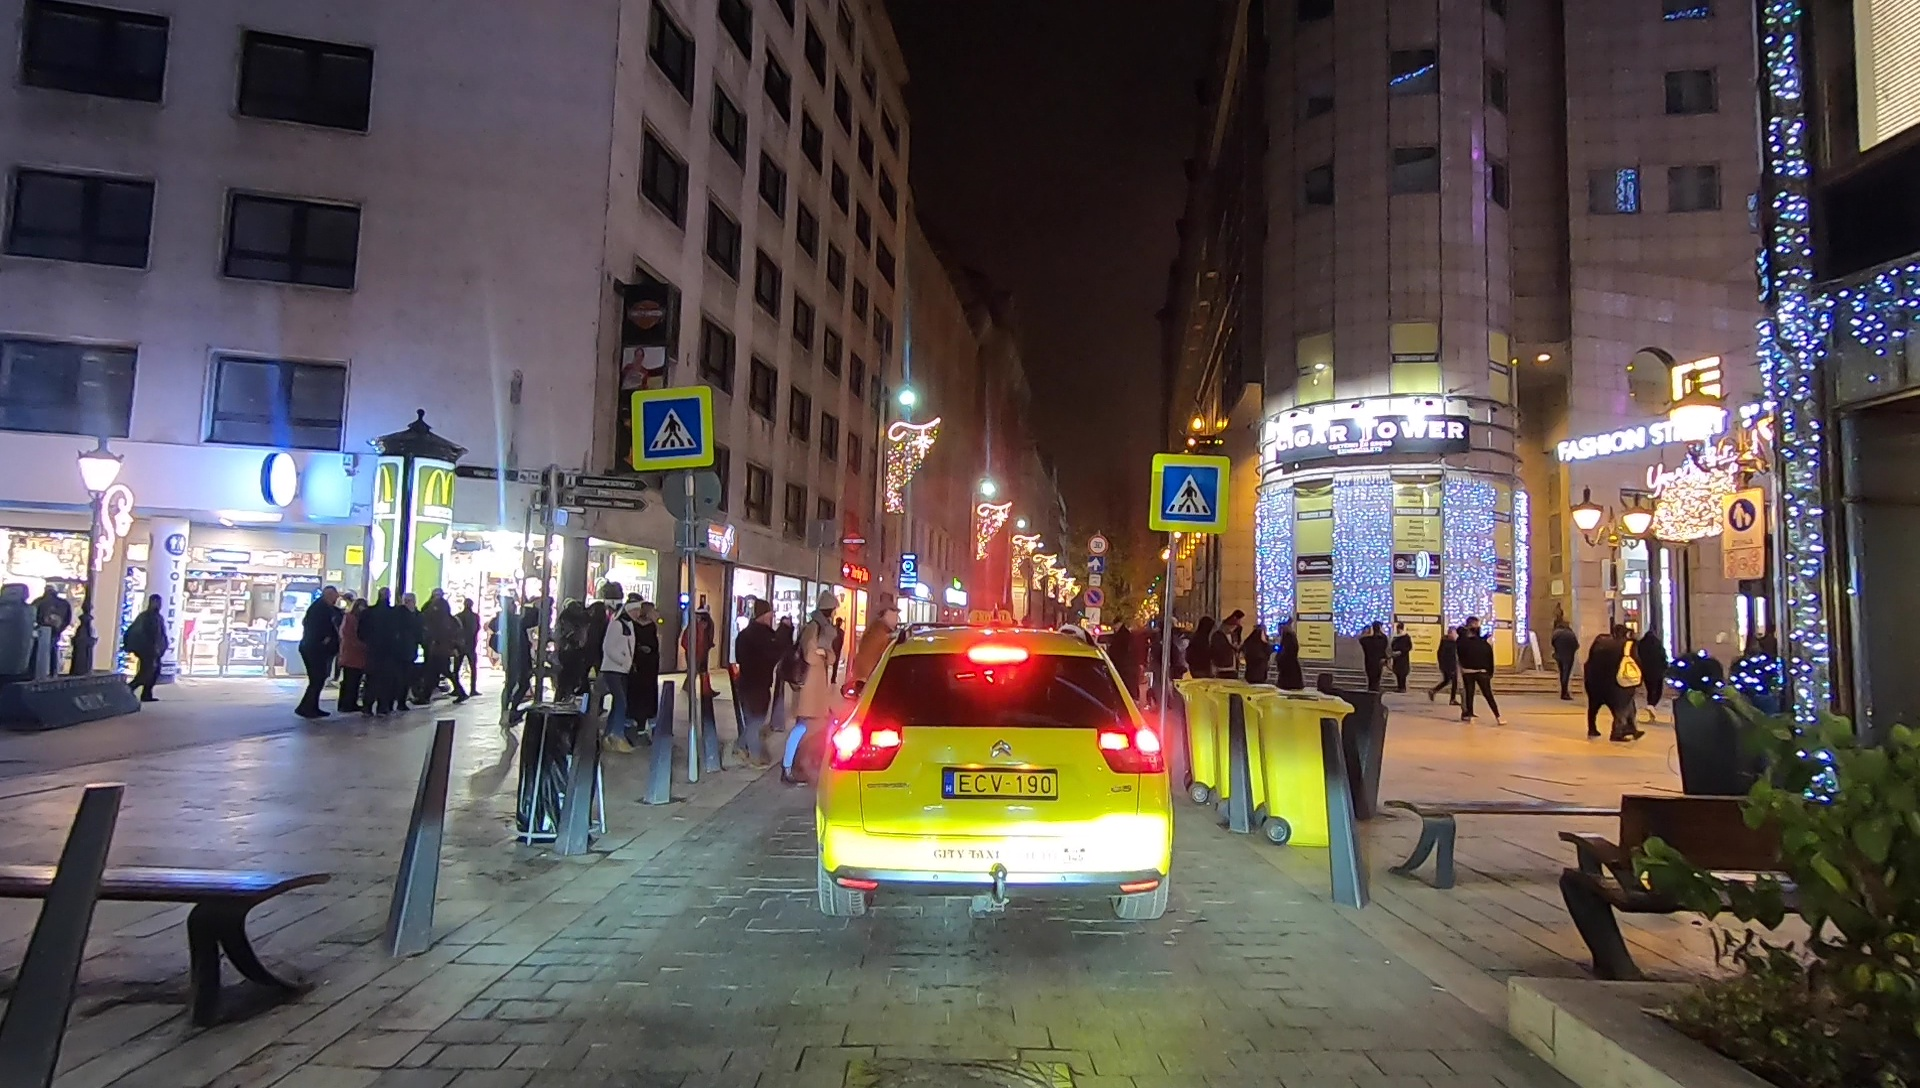person: (725, 597, 780, 786), (789, 599, 843, 786), (849, 602, 904, 728), (623, 599, 665, 745), (295, 589, 334, 721), (1458, 634, 1506, 730), (602, 602, 632, 758), (126, 599, 167, 704), (1582, 630, 1617, 745), (1610, 628, 1645, 743), (421, 586, 452, 708), (680, 602, 715, 710), (452, 597, 482, 708), (338, 593, 365, 711), (1430, 619, 1467, 706), (1358, 617, 1388, 710), (369, 587, 393, 704), (1273, 619, 1302, 708), (1214, 613, 1243, 699), (1245, 623, 1275, 702), (399, 593, 415, 713), (1391, 619, 1414, 693)
